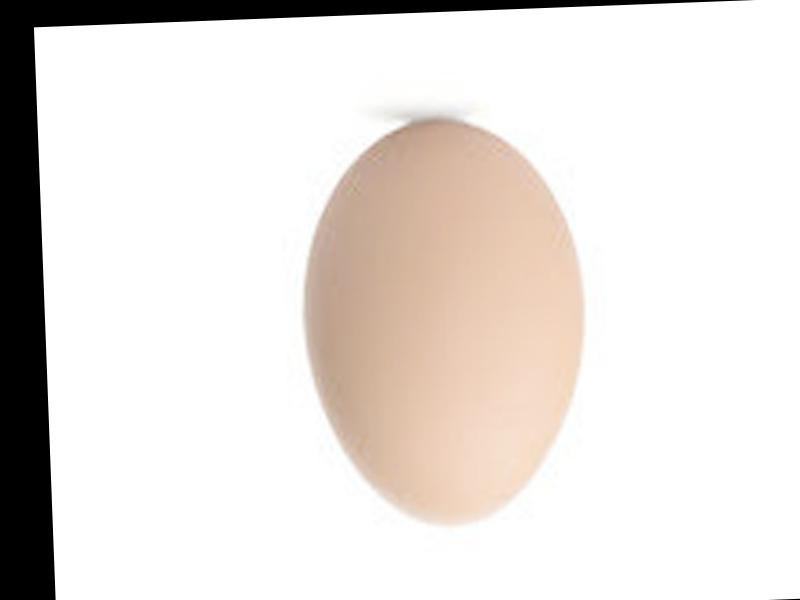Eggs: (297, 111, 589, 526)
